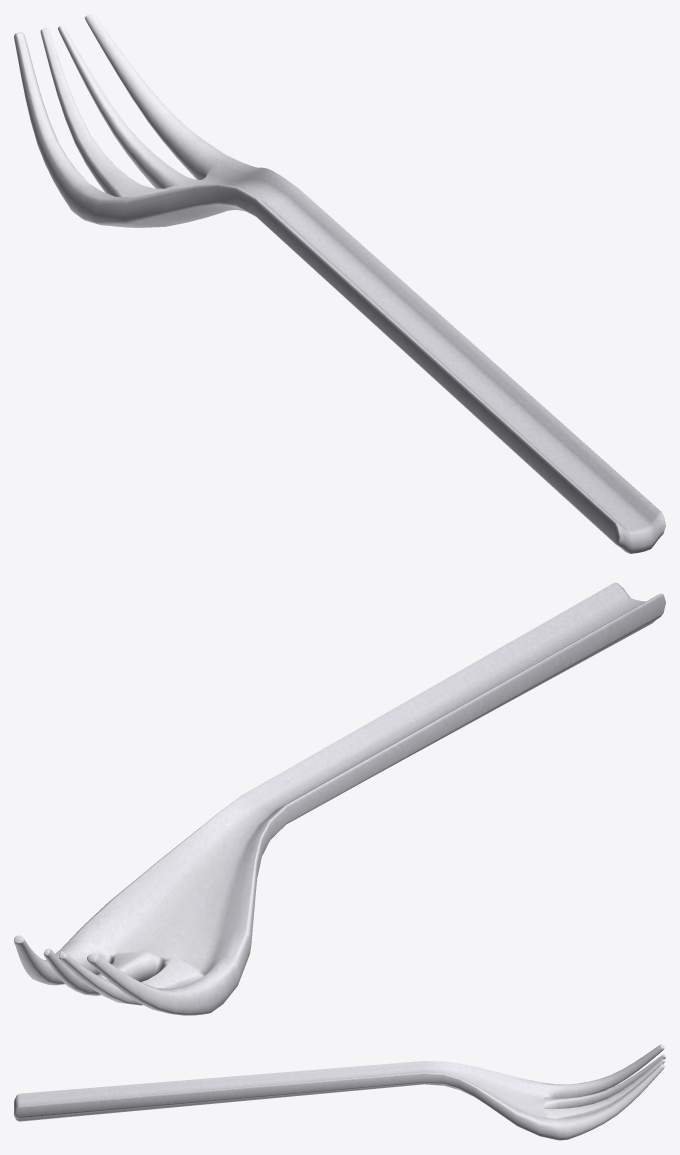
The model's file is PlasticFork.fbx.
The picture shows the model from 3 angles, top to bottom: view 1: azimuth 30°, elevation 25°; view 2: azimuth 150°, elevation 25°; view 3: azimuth 270°, elevation 25°; orthographic projection. The views are drawn at different scales.
Parts seen in each view (by area): view 1: PlasticFork__HighRes1; view 2: PlasticFork__HighRes1; view 3: PlasticFork__HighRes1.
Boxes of the visible parts, x1=… form: PlasticFork__HighRes1: x1=14, y1=14, x2=665, y2=553; PlasticFork__HighRes1: x1=14, y1=582, x2=665, y2=1015; PlasticFork__HighRes1: x1=14, y1=1044, x2=665, y2=1140.
Bounding box in the file's own units: 42.45 × 29.56 × 269.
